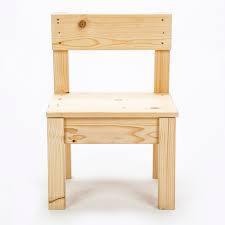chair: (27, 4, 194, 212)
